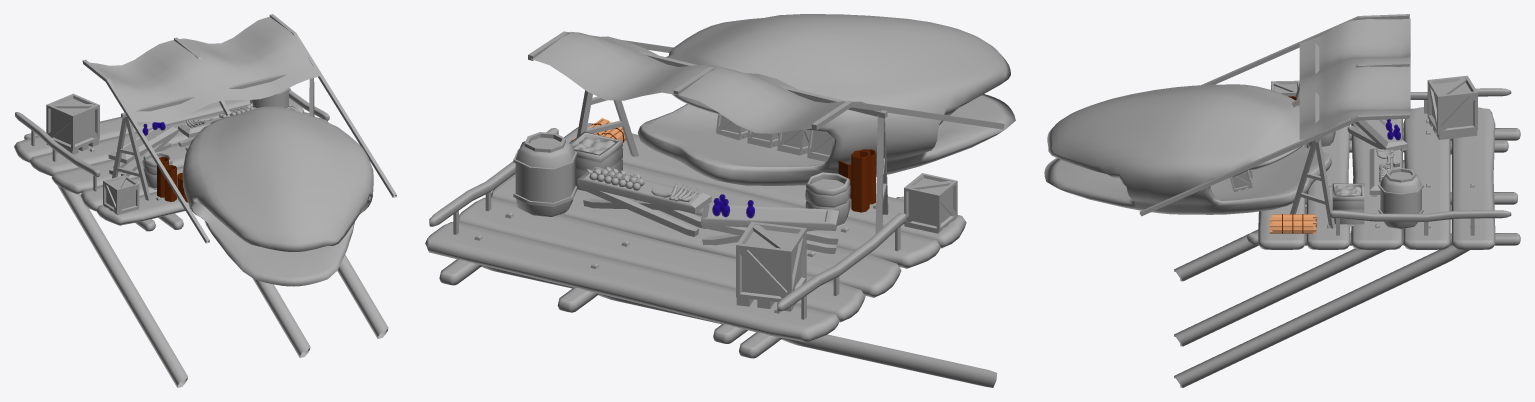
File: TurtleShop.fbx
The picture shows the model from 3 angles, left to right: view 1: azimuth 30°, elevation 25°; view 2: azimuth 150°, elevation 25°; view 3: azimuth 270°, elevation 25°; orthographic projection. The views are drawn at different scales.
Visible parts, largest first — view 1: polySurface88, polySurface89, polySurface102, pCube617, pCube646, pCube621, pCube618, polySurface103, pCube619, pCube620; view 2: polySurface102, polySurface88, polySurface89, pCube617, pCube619, pCube620, pCube621, pCube646, polySurface104, polySurface103, pCube618, pCube647 (+2 smaller); view 3: polySurface102, polySurface88, polySurface89, pCube617, pCube619, pCube621, polySurface104, pTorus11, pCube620.
Boxes of the visible parts, x1=… form: polySurface88: x1=182, y1=106, x2=373, y2=286; polySurface89: x1=82, y1=14, x2=396, y2=243; polySurface102: x1=14, y1=90, x2=388, y2=387; pCube617: x1=46, y1=93, x2=99, y2=154; pCube646: x1=103, y1=175, x2=139, y2=214; pCube621: x1=108, y1=125, x2=178, y2=176; pCube618: x1=157, y1=157, x2=187, y2=202; polySurface103: x1=143, y1=152, x2=172, y2=189; pCube619: x1=250, y1=87, x2=290, y2=107; pCube620: x1=178, y1=107, x2=255, y2=150; polySurface102: x1=425, y1=123, x2=997, y2=387; polySurface88: x1=637, y1=14, x2=1015, y2=185; polySurface89: x1=528, y1=31, x2=1004, y2=233; pCube617: x1=736, y1=221, x2=806, y2=311; pCube619: x1=513, y1=132, x2=577, y2=216; pCube620: x1=577, y1=167, x2=711, y2=236; pCube621: x1=701, y1=204, x2=839, y2=253; pCube646: x1=904, y1=173, x2=957, y2=233; polySurface104: x1=569, y1=131, x2=622, y2=191; polySurface103: x1=805, y1=172, x2=850, y2=227; pCube618: x1=838, y1=149, x2=875, y2=212; pCube647: x1=777, y1=129, x2=809, y2=155; polySurface102: x1=1174, y1=88, x2=1520, y2=387; polySurface88: x1=1044, y1=84, x2=1331, y2=214; polySurface89: x1=1139, y1=14, x2=1410, y2=228; pCube617: x1=1427, y1=75, x2=1477, y2=139; pCube619: x1=1378, y1=168, x2=1423, y2=229; pCube621: x1=1347, y1=118, x2=1407, y2=167; polySurface104: x1=1332, y1=183, x2=1364, y2=226; pTorus11: x1=1269, y1=220, x2=1317, y2=233; pCube620: x1=1369, y1=148, x2=1393, y2=207.
Bounding box in the file's own units: 5.34 × 4.89 × 7.81.
